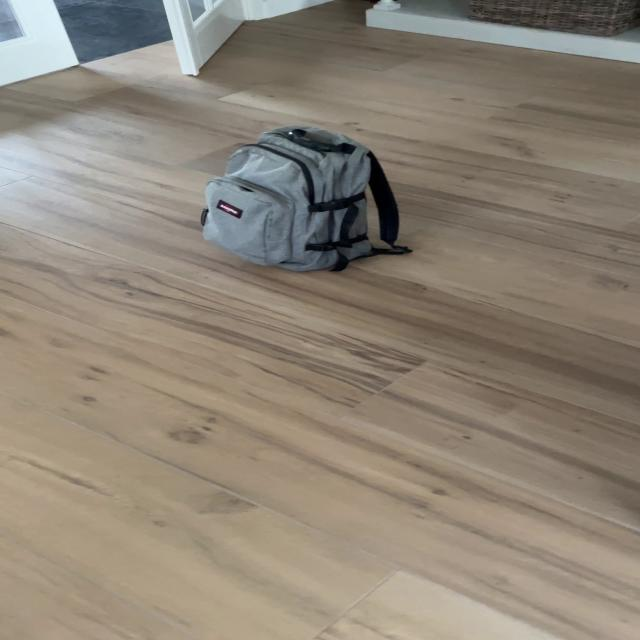backpack: (187, 119, 402, 276)
